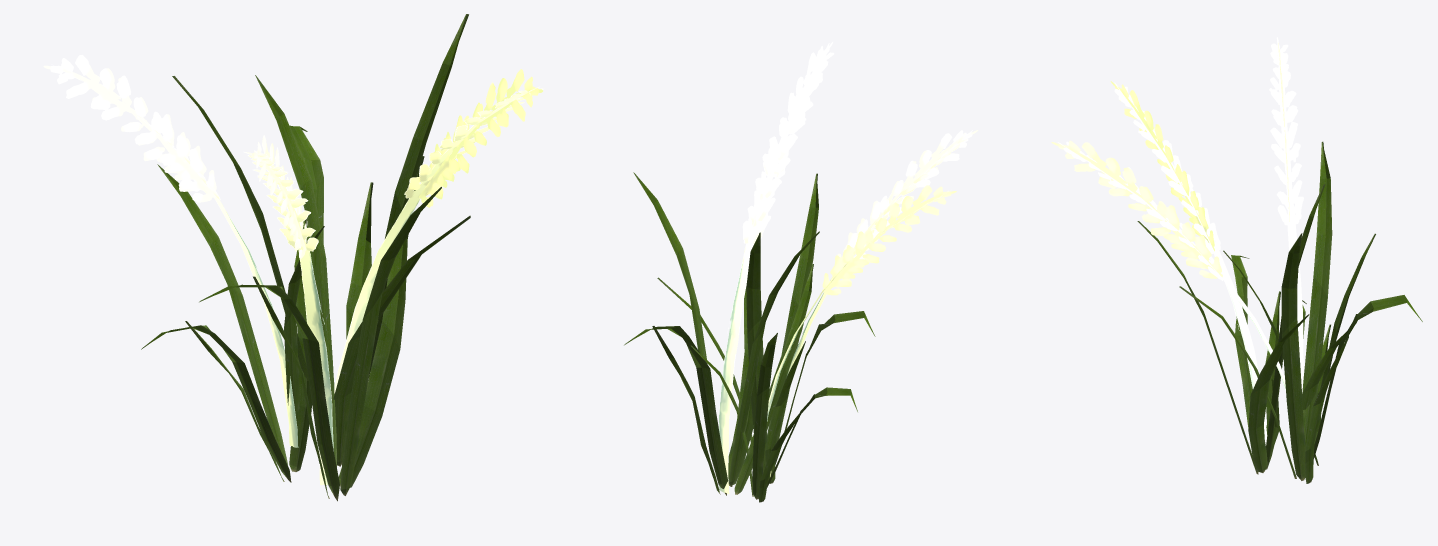
The model's file is rice_3_v2.fbx.
3 renders of one model, left to right at view 1: azimuth 30°, elevation 25°; view 2: azimuth 150°, elevation 25°; view 3: azimuth 270°, elevation 25°, orthographic. The views are drawn at different scales.
Parts seen in each view (by area): view 1: Object_2.002, Object_2.001, Object_2, Leaf1.011, Leaf1.013, Leaf1.015, Leaf1.010, Leaf1.012, Leaf1.001, Leaf1.006, Leaf1.003, Leaf1.004 (+5 smaller); view 2: Object_2.001, Object_2.002, Object_2, Leaf1.005, Leaf1.007, Leaf1.008, Leaf1.015, Leaf1.010, Leaf1.013, Leaf1.001, Leaf1.006, Leaf1.014 (+4 smaller); view 3: Object_2.001, Object_2, Object_2.002, Leaf1.007, Leaf1.001, Leaf1.011, Leaf1.012, Leaf1.004, Leaf1.015, Leaf1.005, Leaf1.014, Leaf1.013 (+3 smaller).
Part boxes in pixels (x1=…): Object_2.002: x1=43, y1=55, x2=298, y2=447; Object_2.001: x1=334, y1=69, x2=543, y2=393; Object_2: x1=243, y1=135, x2=333, y2=485; Leaf1.011: x1=338, y1=156, x2=424, y2=487; Leaf1.013: x1=340, y1=187, x2=441, y2=495; Leaf1.015: x1=255, y1=75, x2=336, y2=467; Leaf1.010: x1=157, y1=164, x2=287, y2=464; Leaf1.012: x1=199, y1=284, x2=339, y2=501; Leaf1.001: x1=368, y1=14, x2=468, y2=379; Leaf1.006: x1=333, y1=215, x2=470, y2=466; Leaf1.003: x1=141, y1=325, x2=291, y2=482; Leaf1.004: x1=346, y1=182, x2=373, y2=339; Object_2.001: x1=718, y1=42, x2=834, y2=494; Object_2.002: x1=767, y1=185, x2=956, y2=421; Object_2: x1=770, y1=130, x2=978, y2=476; Leaf1.005: x1=624, y1=326, x2=728, y2=495; Leaf1.007: x1=729, y1=231, x2=819, y2=486; Leaf1.008: x1=734, y1=264, x2=813, y2=494; Leaf1.015: x1=746, y1=232, x2=767, y2=473; Leaf1.010: x1=752, y1=333, x2=777, y2=499; Leaf1.013: x1=767, y1=173, x2=818, y2=442; Leaf1.001: x1=633, y1=172, x2=707, y2=363; Leaf1.006: x1=728, y1=287, x2=753, y2=486; Leaf1.014: x1=765, y1=341, x2=805, y2=483; Object_2.001: x1=1051, y1=140, x2=1285, y2=389; Object_2: x1=1110, y1=81, x2=1267, y2=445; Object_2.002: x1=1269, y1=37, x2=1303, y2=393; Leaf1.007: x1=1302, y1=141, x2=1332, y2=447; Leaf1.001: x1=1281, y1=233, x2=1305, y2=480; Leaf1.011: x1=1248, y1=314, x2=1308, y2=472; Leaf1.012: x1=1231, y1=255, x2=1258, y2=472; Leaf1.004: x1=1304, y1=335, x2=1348, y2=483; Leaf1.015: x1=1266, y1=184, x2=1325, y2=468; Leaf1.005: x1=1313, y1=295, x2=1422, y2=458; Leaf1.014: x1=1265, y1=291, x2=1280, y2=469; Leaf1.013: x1=1137, y1=221, x2=1258, y2=474.
Size of the model in its own units: 471 by 493 by 574.
Materials: 2 (1 with a texture image).
